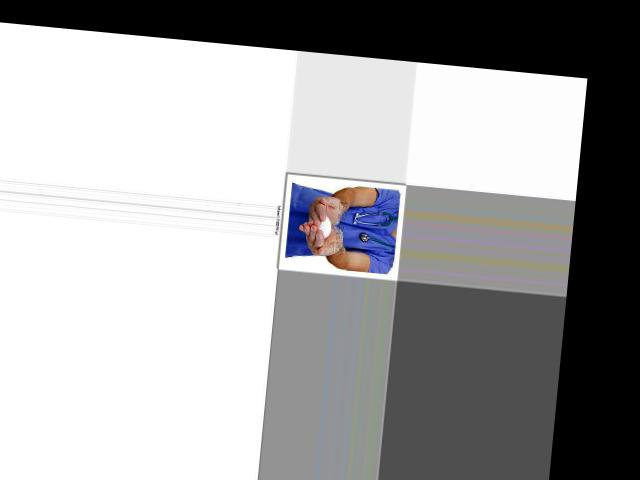egg: (316, 215, 332, 237)
